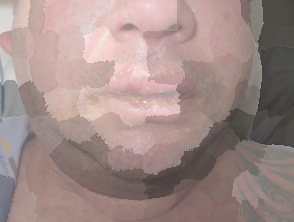SJS-TEN: (75, 79, 207, 119)
